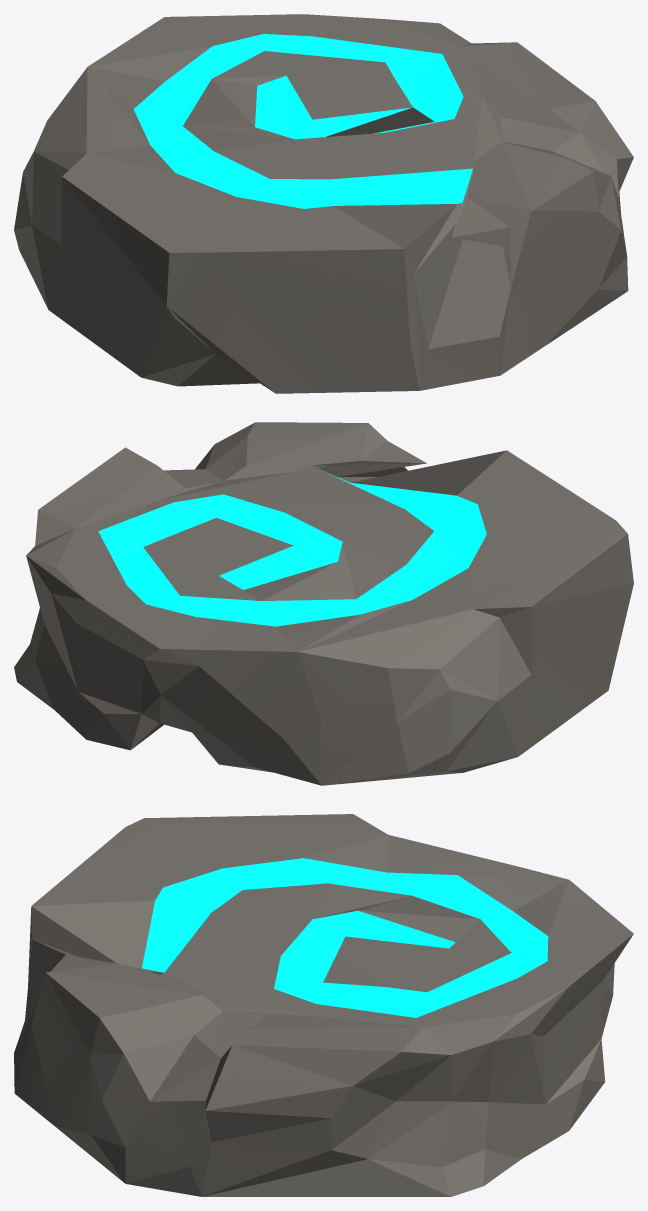
File: Reset.FBX
3 views of the same model, one above another, from view 1: azimuth 30°, elevation 25°; view 2: azimuth 150°, elevation 25°; view 3: azimuth 270°, elevation 25° (orthographic). The views are drawn at different scales.
Visible parts, largest first — view 1: Obj3d66-1649282-32-151; view 2: Obj3d66-1649282-32-151; view 3: Obj3d66-1649282-32-151.
Boxes of the visible parts, x1=… form: Obj3d66-1649282-32-151: x1=14, y1=14, x2=633, y2=393; Obj3d66-1649282-32-151: x1=14, y1=422, x2=633, y2=785; Obj3d66-1649282-32-151: x1=14, y1=814, x2=633, y2=1196.
Size of the model in its own units: 998 by 281 by 1058.
Materials: 1 (1 with a texture image).
